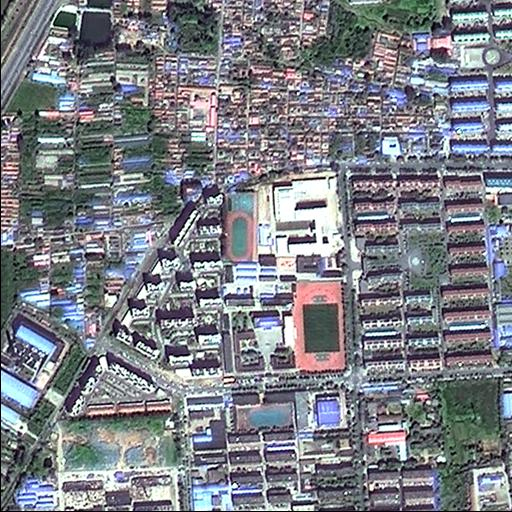school: (219, 278, 352, 378), (226, 194, 350, 292), (231, 387, 297, 431)
